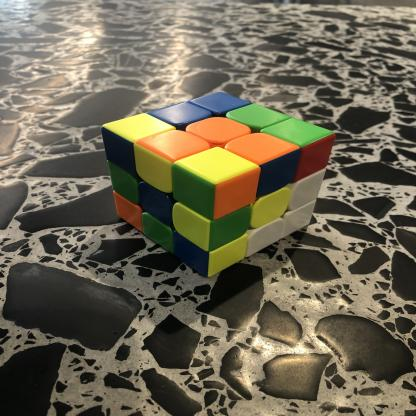UnsolvedCube: (72, 84, 345, 286)
